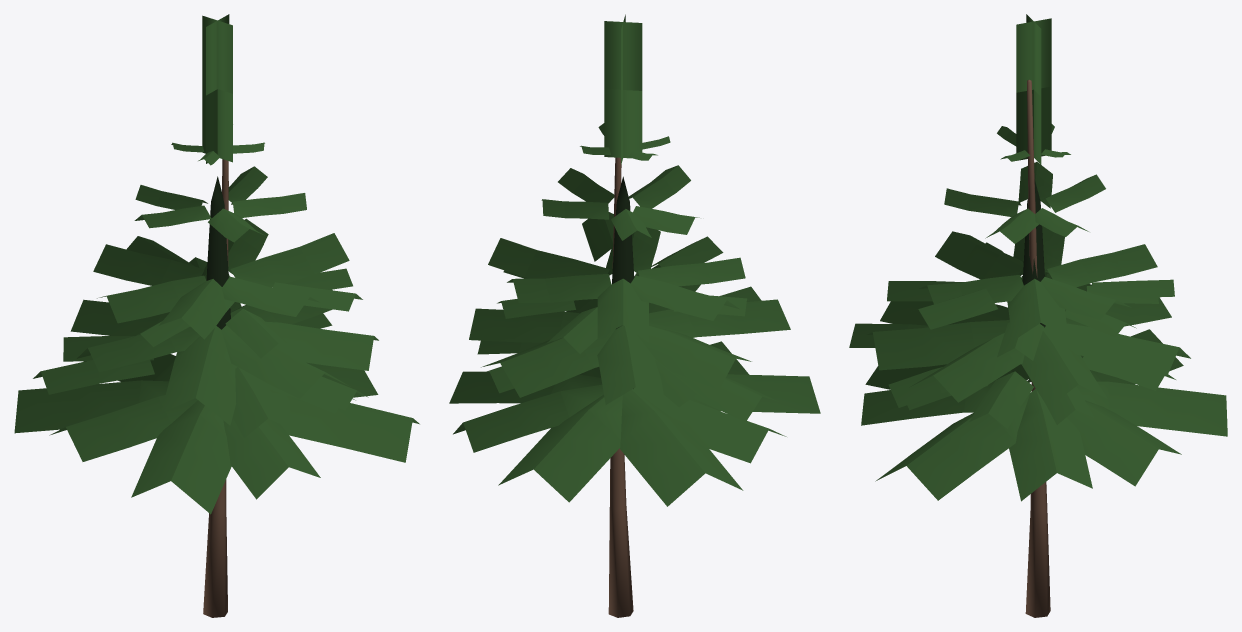
Rendered from sapling_spruce.glb.
The picture shows the model from 3 angles, left to right: view 1: azimuth 30°, elevation 25°; view 2: azimuth 150°, elevation 25°; view 3: azimuth 270°, elevation 25°; orthographic projection.
Visible parts, largest first — view 1: sapling_spruce_lod0; view 2: sapling_spruce_lod0; view 3: sapling_spruce_lod0.
Part boxes in pixels (x1=…): sapling_spruce_lod0: x1=14, y1=14, x2=419, y2=617; sapling_spruce_lod0: x1=449, y1=14, x2=820, y2=617; sapling_spruce_lod0: x1=849, y1=14, x2=1227, y2=617.
Size of what is drawn, in the model's own units: 1.46 by 2.62 by 1.51.
